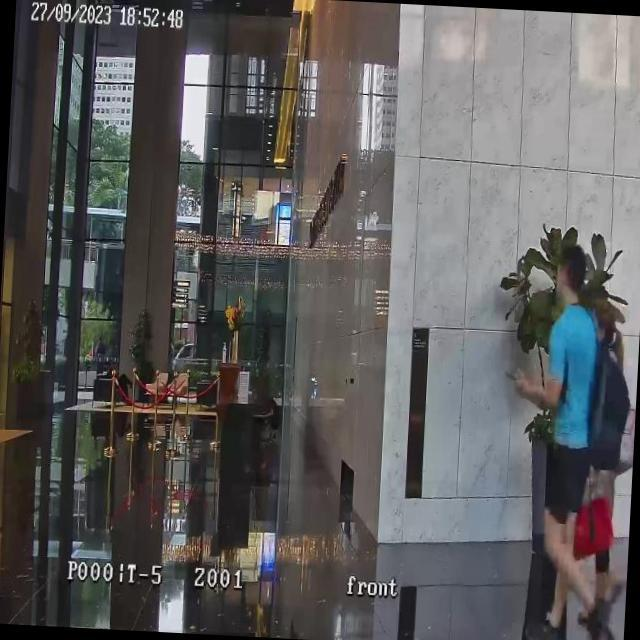person: (501, 240, 613, 636), (571, 304, 640, 630)
